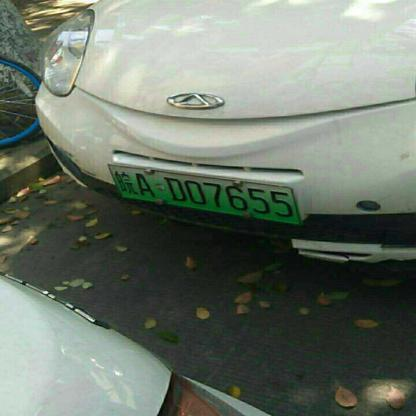lp: (106, 164, 301, 225)
